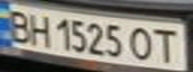1: (51, 16, 72, 51)
2: (84, 19, 106, 56)
5: (103, 21, 130, 60), (66, 17, 87, 53)
B: (3, 7, 36, 44)
H: (24, 11, 54, 47)
O: (127, 25, 160, 62)
T: (148, 25, 184, 64)
